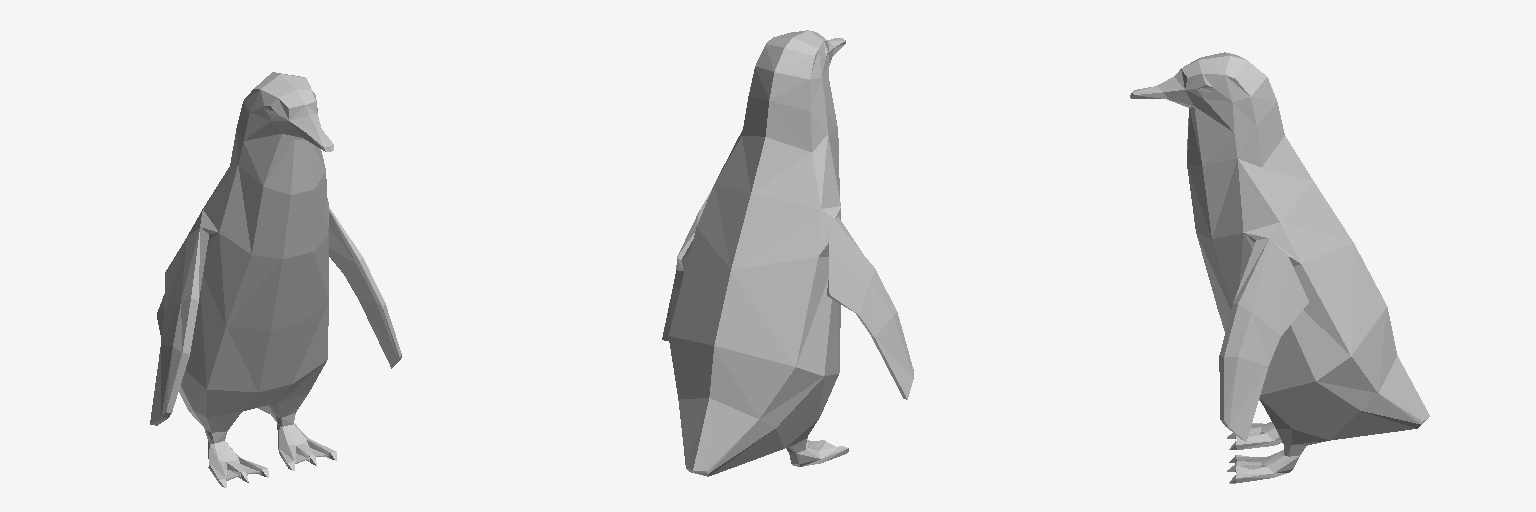
File: penguin_20.obj
The picture shows the model from 3 angles: view 1: azimuth 30°, elevation 25°; view 2: azimuth 150°, elevation 25°; view 3: azimuth 270°, elevation 25°; orthographic projection.
Visible parts, largest first — view 1: penguin; view 2: penguin; view 3: penguin.
Boxes of the visible parts, x1=… form: penguin: x1=150, y1=72, x2=401, y2=487; penguin: x1=662, y1=30, x2=913, y2=476; penguin: x1=1130, y1=52, x2=1429, y2=483.
Bounding box in the file's own units: 0.695 × 1.08 × 0.7358.